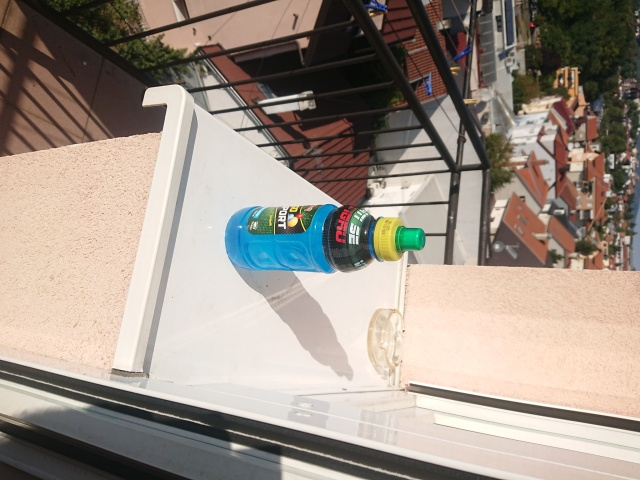Vindi Iso Sport Forest Strawberries 500mL: (222, 201, 427, 274)
